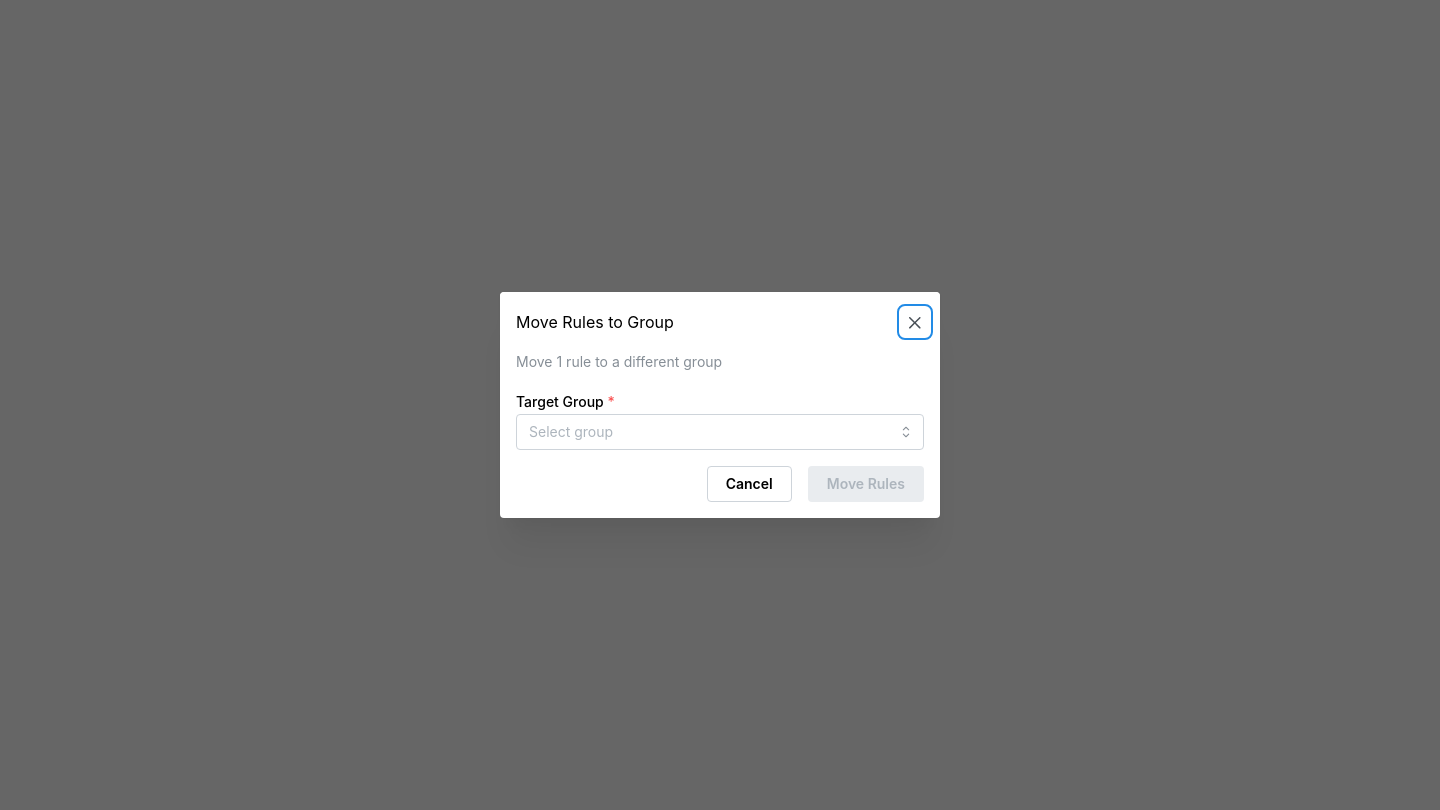
Scenario: MoveToGroupModal › group selection › opens dropdown when select clicked
Click the field with placeholder "Select group" at (720, 432), box [516, 414, 924, 450]
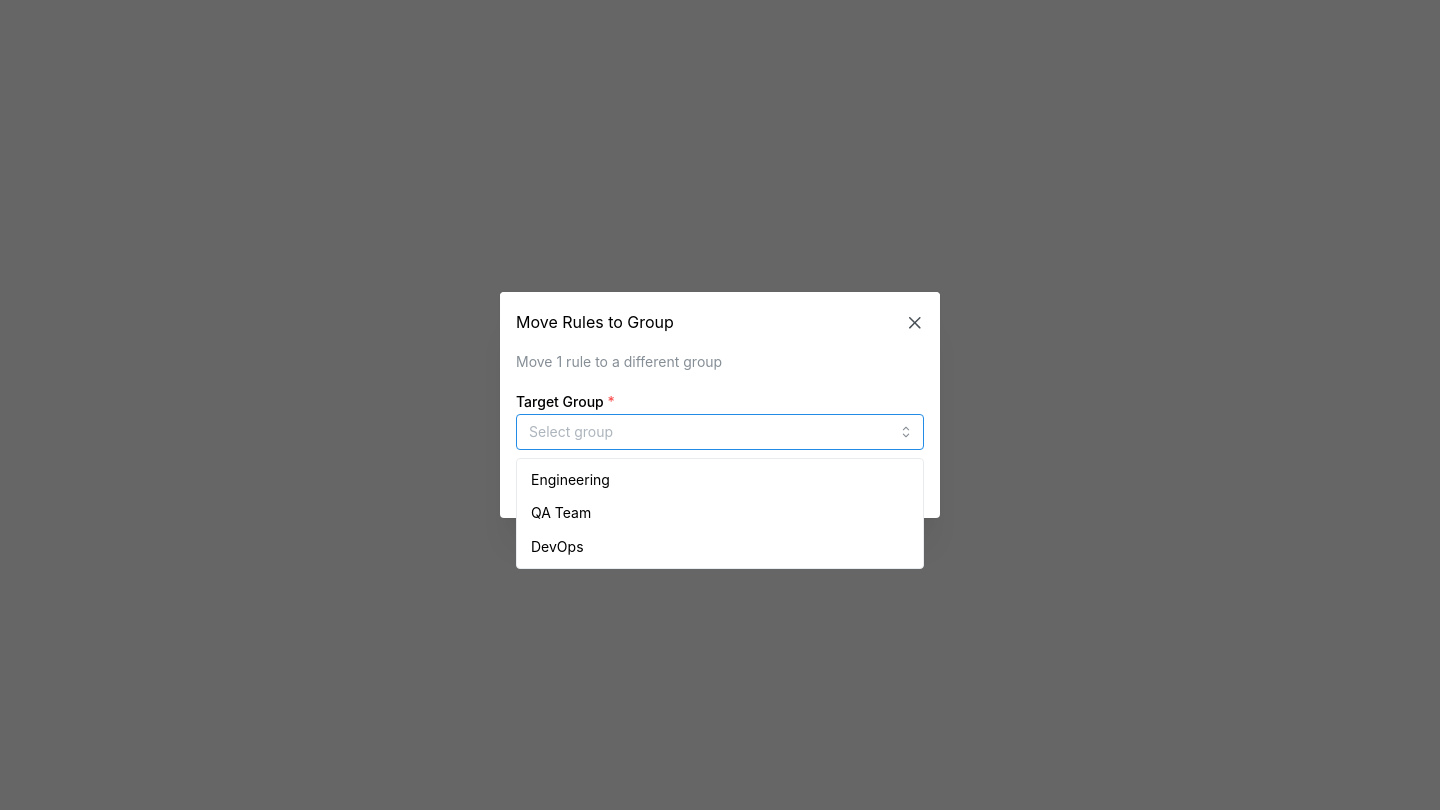
expect the text "Engineering" is shown: met, box [531, 468, 610, 490]
expect the text "QA Team" is shown: met, box [531, 502, 591, 524]
expect the text "DevOps" is shown: met, box [531, 536, 584, 558]
